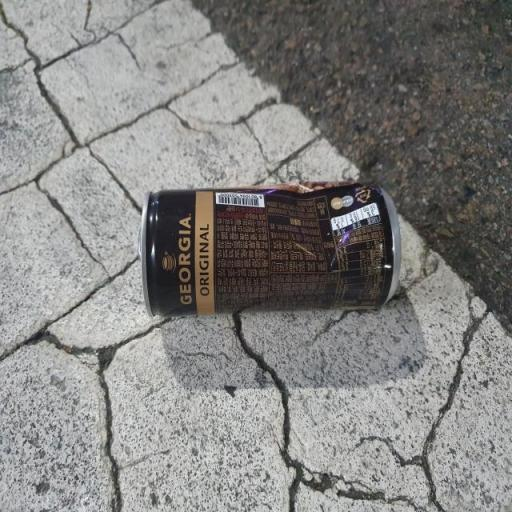metal: (126, 164, 422, 329)
